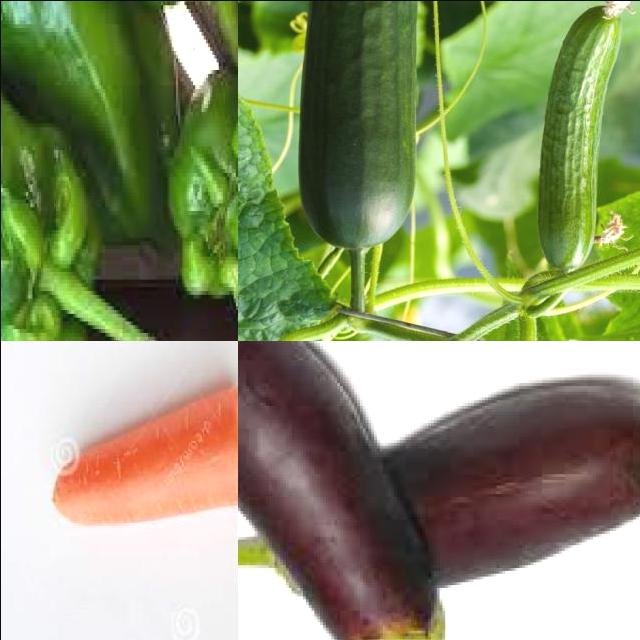bell_pepper: (1, 47, 159, 341), (163, 67, 238, 325)
carrot: (46, 381, 238, 534)
cucumber: (294, 1, 428, 254), (537, 1, 628, 274)
eggplant: (258, 389, 640, 597), (238, 341, 434, 640)
